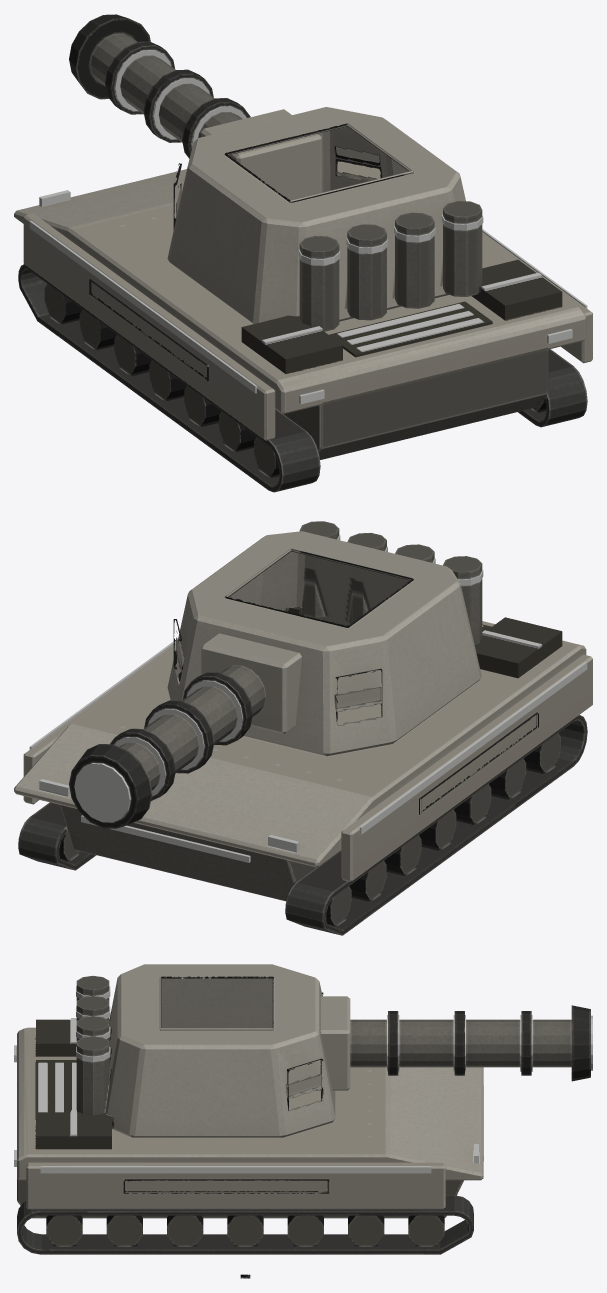
File: ord_luminary.fbx
The picture shows the model from 3 angles, top to bottom: view 1: azimuth 30°, elevation 25°; view 2: azimuth 150°, elevation 25°; view 3: azimuth 270°, elevation 25°; orthographic projection. The views are drawn at different scales.
Visible parts, largest first — view 1: base_bar, turret_bar, barrel_bar, trackL_bar, base_glow_running_bar, trackR_bar, barrel_glow_weapon_bar, turret_glow_running_bar; view 2: base_bar, turret_bar, barrel_bar, trackL_bar, barrel_glow_weapon_bar, base_glow_running_bar, trackR_bar, base_glow_head_bar; view 3: base_bar, turret_bar, trackR_bar, barrel_bar, base_glow_running_bar, barrel_glow_weapon_bar, turret_glow_running_bar.
Part boxes in pixels (x1,y1,x2,y2): base_bar: [14, 161, 592, 459]; turret_bar: [167, 107, 482, 331]; barrel_bar: [69, 14, 321, 199]; trackL_bar: [18, 264, 320, 492]; base_glow_running_bar: [29, 221, 587, 404]; trackR_bar: [518, 349, 587, 427]; barrel_glow_weapon_bar: [115, 50, 246, 145]; turret_glow_running_bar: [298, 214, 483, 265]; base_bar: [14, 606, 592, 901]; turret_bar: [167, 521, 482, 756]; barrel_bar: [69, 633, 301, 828]; trackL_bar: [285, 715, 587, 935]; barrel_glow_weapon_bar: [74, 680, 242, 822]; base_glow_running_bar: [29, 625, 587, 862]; trackR_bar: [18, 802, 96, 870]; base_glow_head_bar: [39, 779, 299, 852]; base_bar: [17, 1019, 483, 1218]; turret_bar: [76, 964, 335, 1137]; trackR_bar: [17, 1195, 473, 1254]; barrel_bar: [286, 996, 590, 1090]; base_glow_running_bar: [14, 1018, 483, 1173]; barrel_glow_weapon_bar: [387, 1015, 592, 1071]; turret_glow_running_bar: [76, 986, 110, 1062].
Bounding box in the file's own units: 696 × 634 × 1216.
2 materials, 2 textured.
